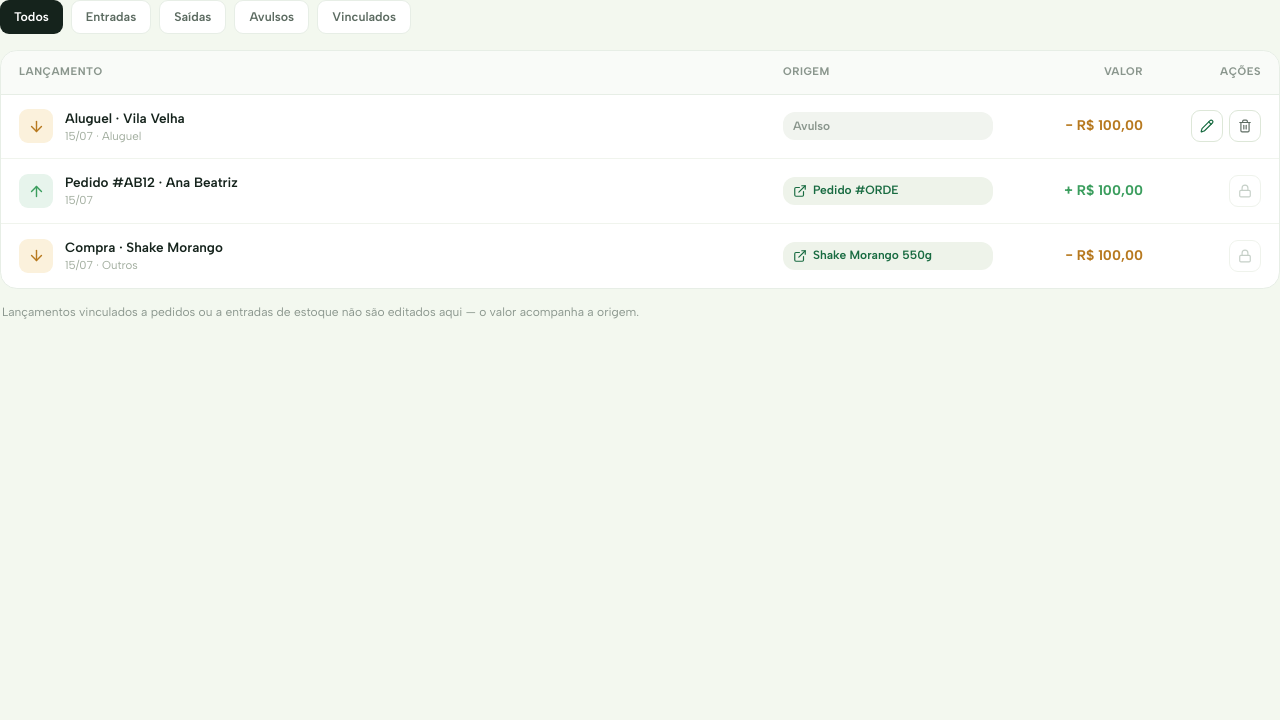
Test: MovimentacoesClient › clicking a vinculado row opens the read-only sheet
Click the text "Pedido #AB12 · Ana Beatriz".
click(151, 183)  # box x1=65 y1=173 x2=238 y2=192
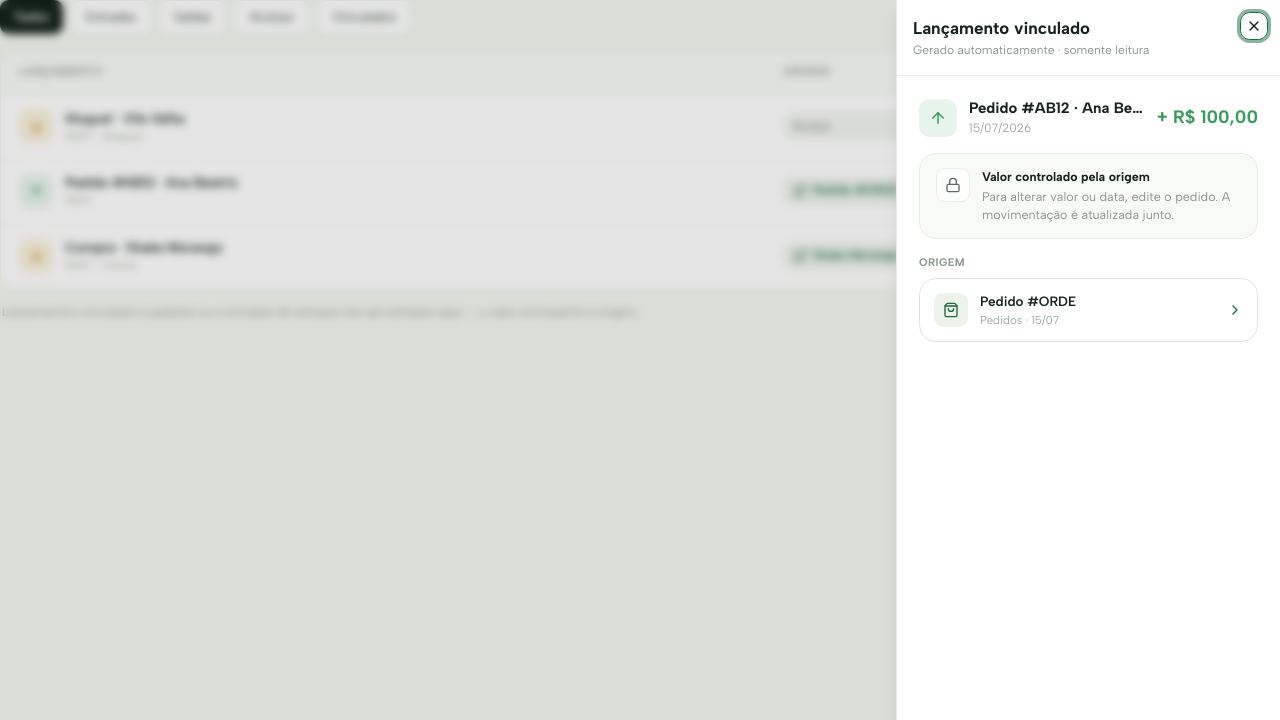
Expected: the heading "Lançamento vinculado" is shown, x1=913 y1=18 x2=1090 y2=38
